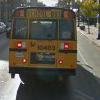Bus: (8, 2, 82, 85)
